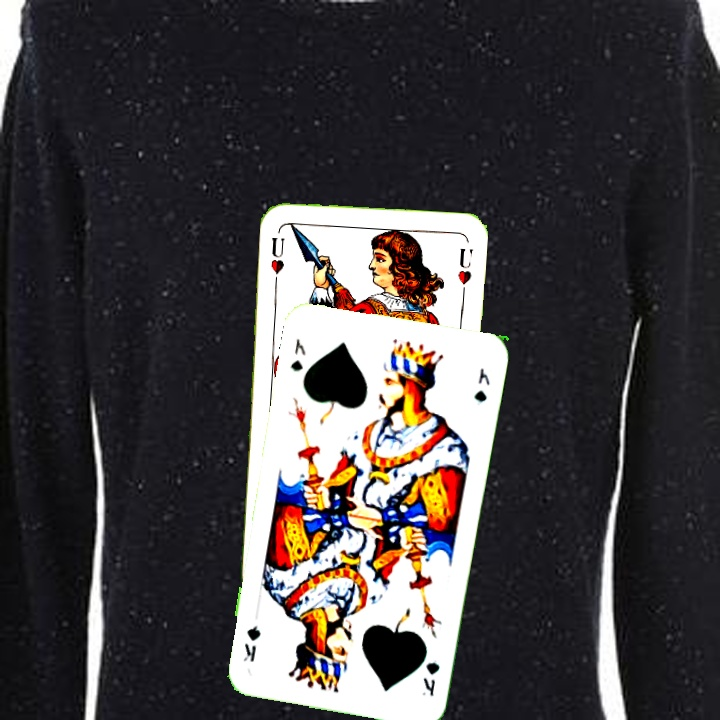GK: (418, 658, 442, 699), (286, 334, 308, 374)
HU: (266, 232, 287, 285)
